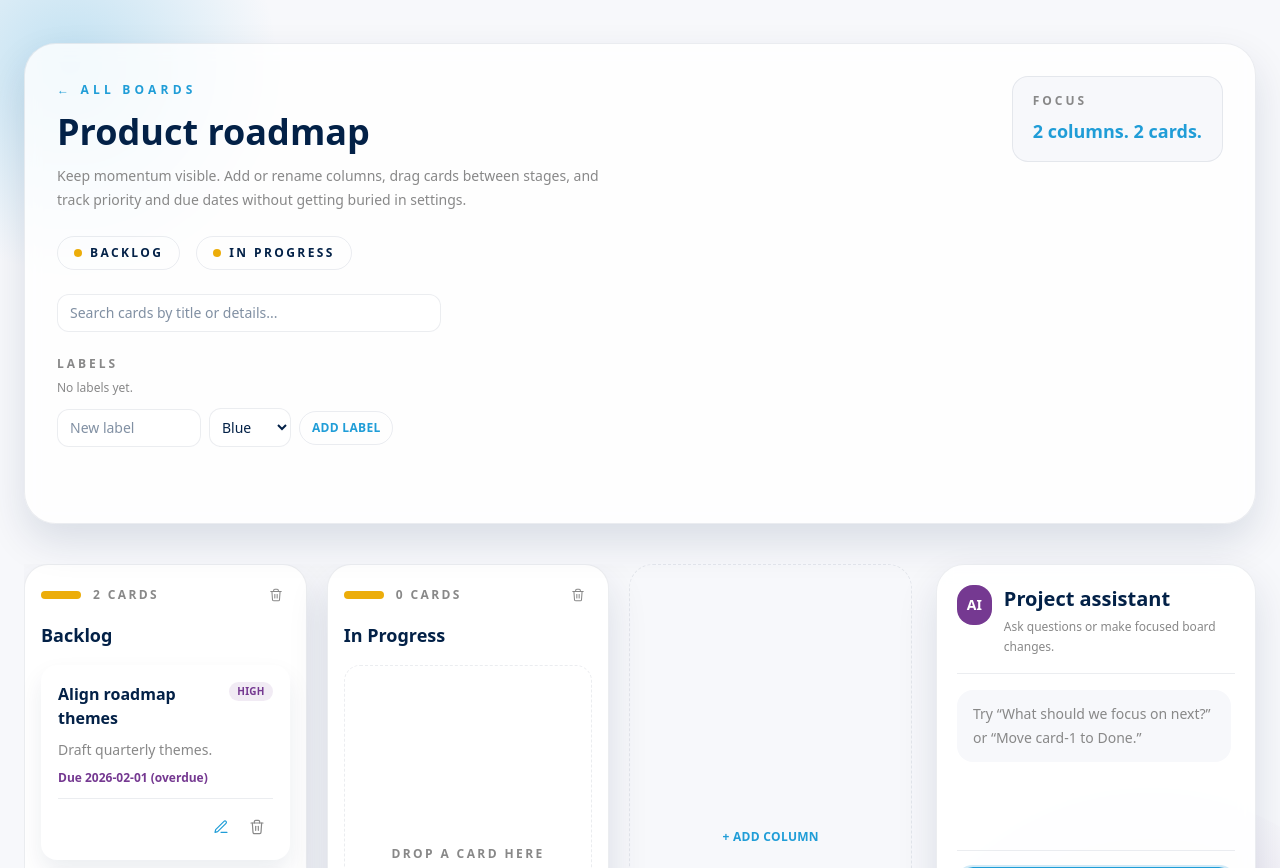
KanbanBoard › reverts to the previous title when cleared to empty
Clear the 1st field named "Column title": (165, 635) [41, 621, 290, 649]
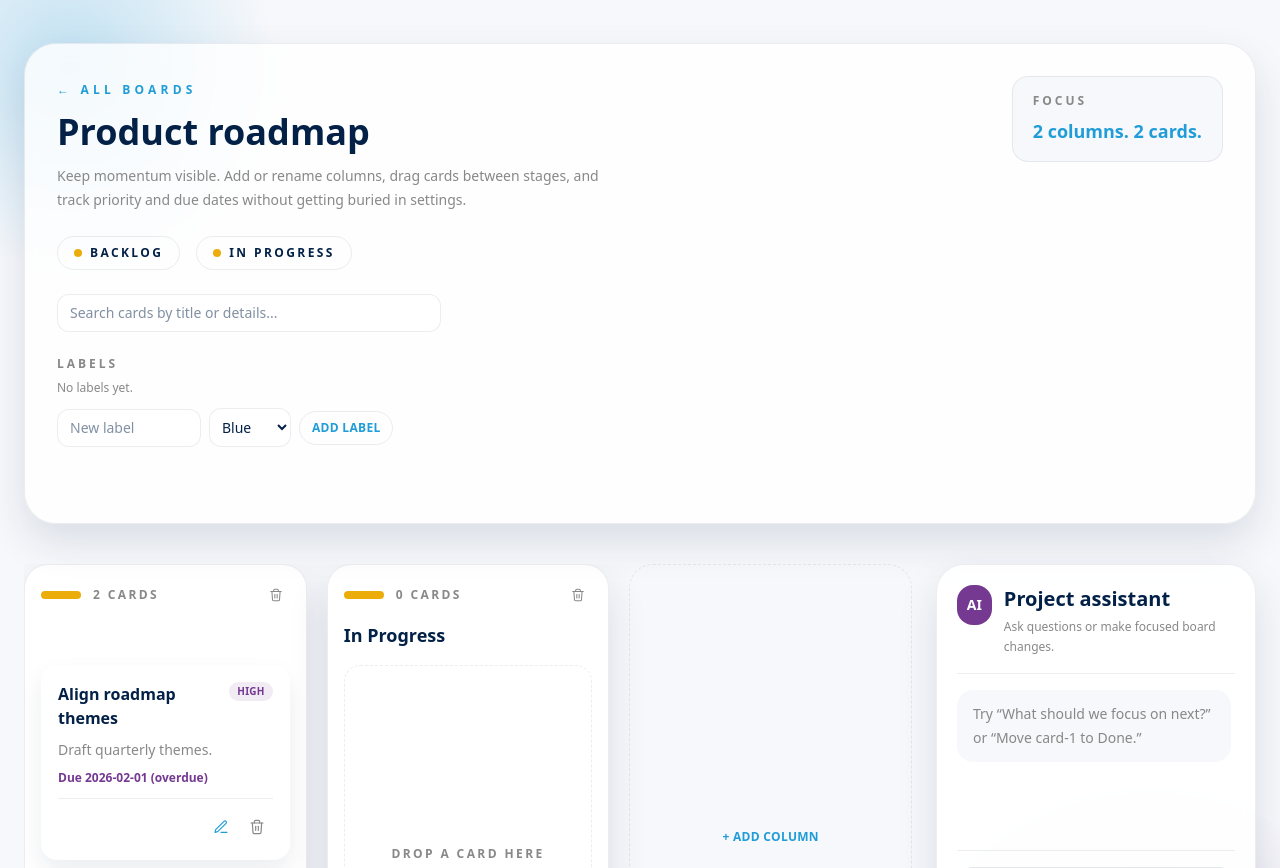
Press Tab
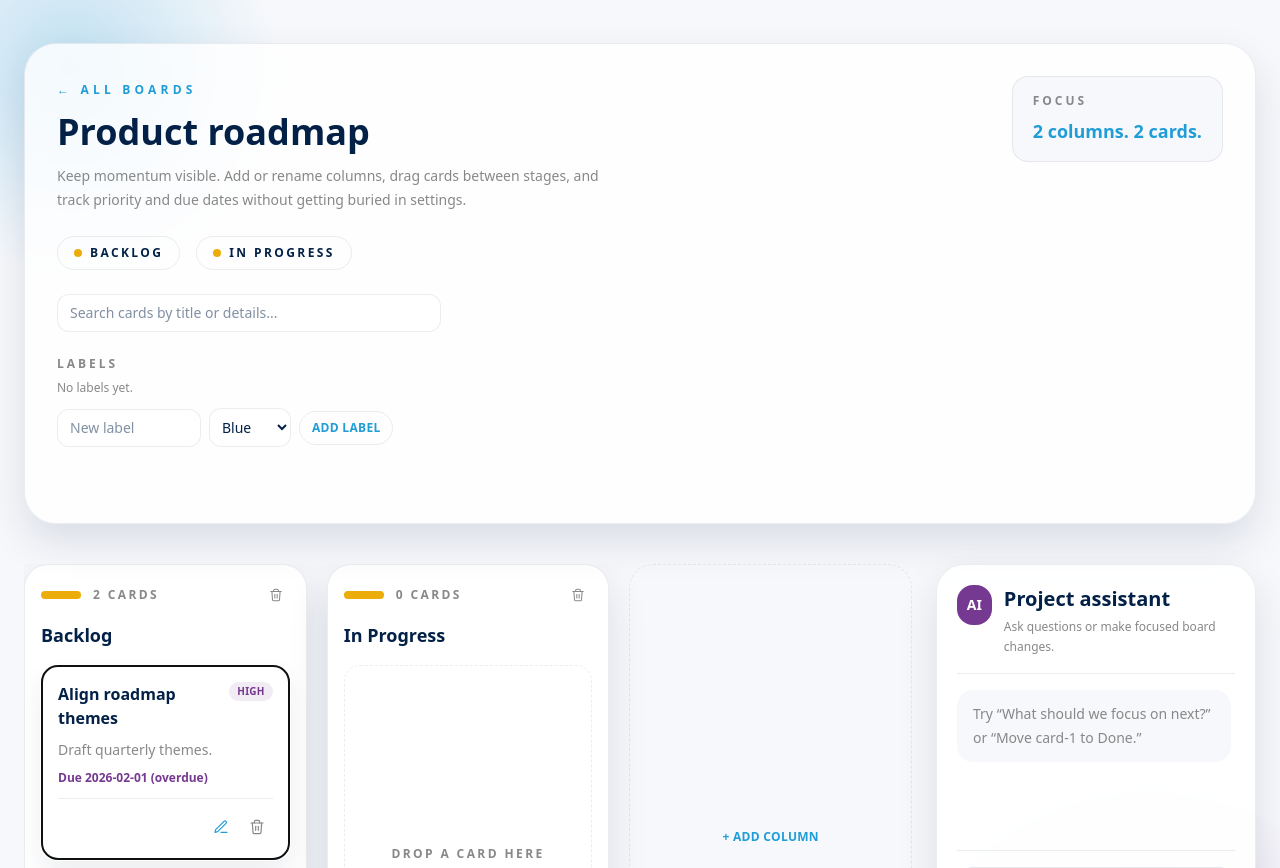
Result: the 1st field named "Column title" holds "Backlog" at [41, 621, 290, 649]
